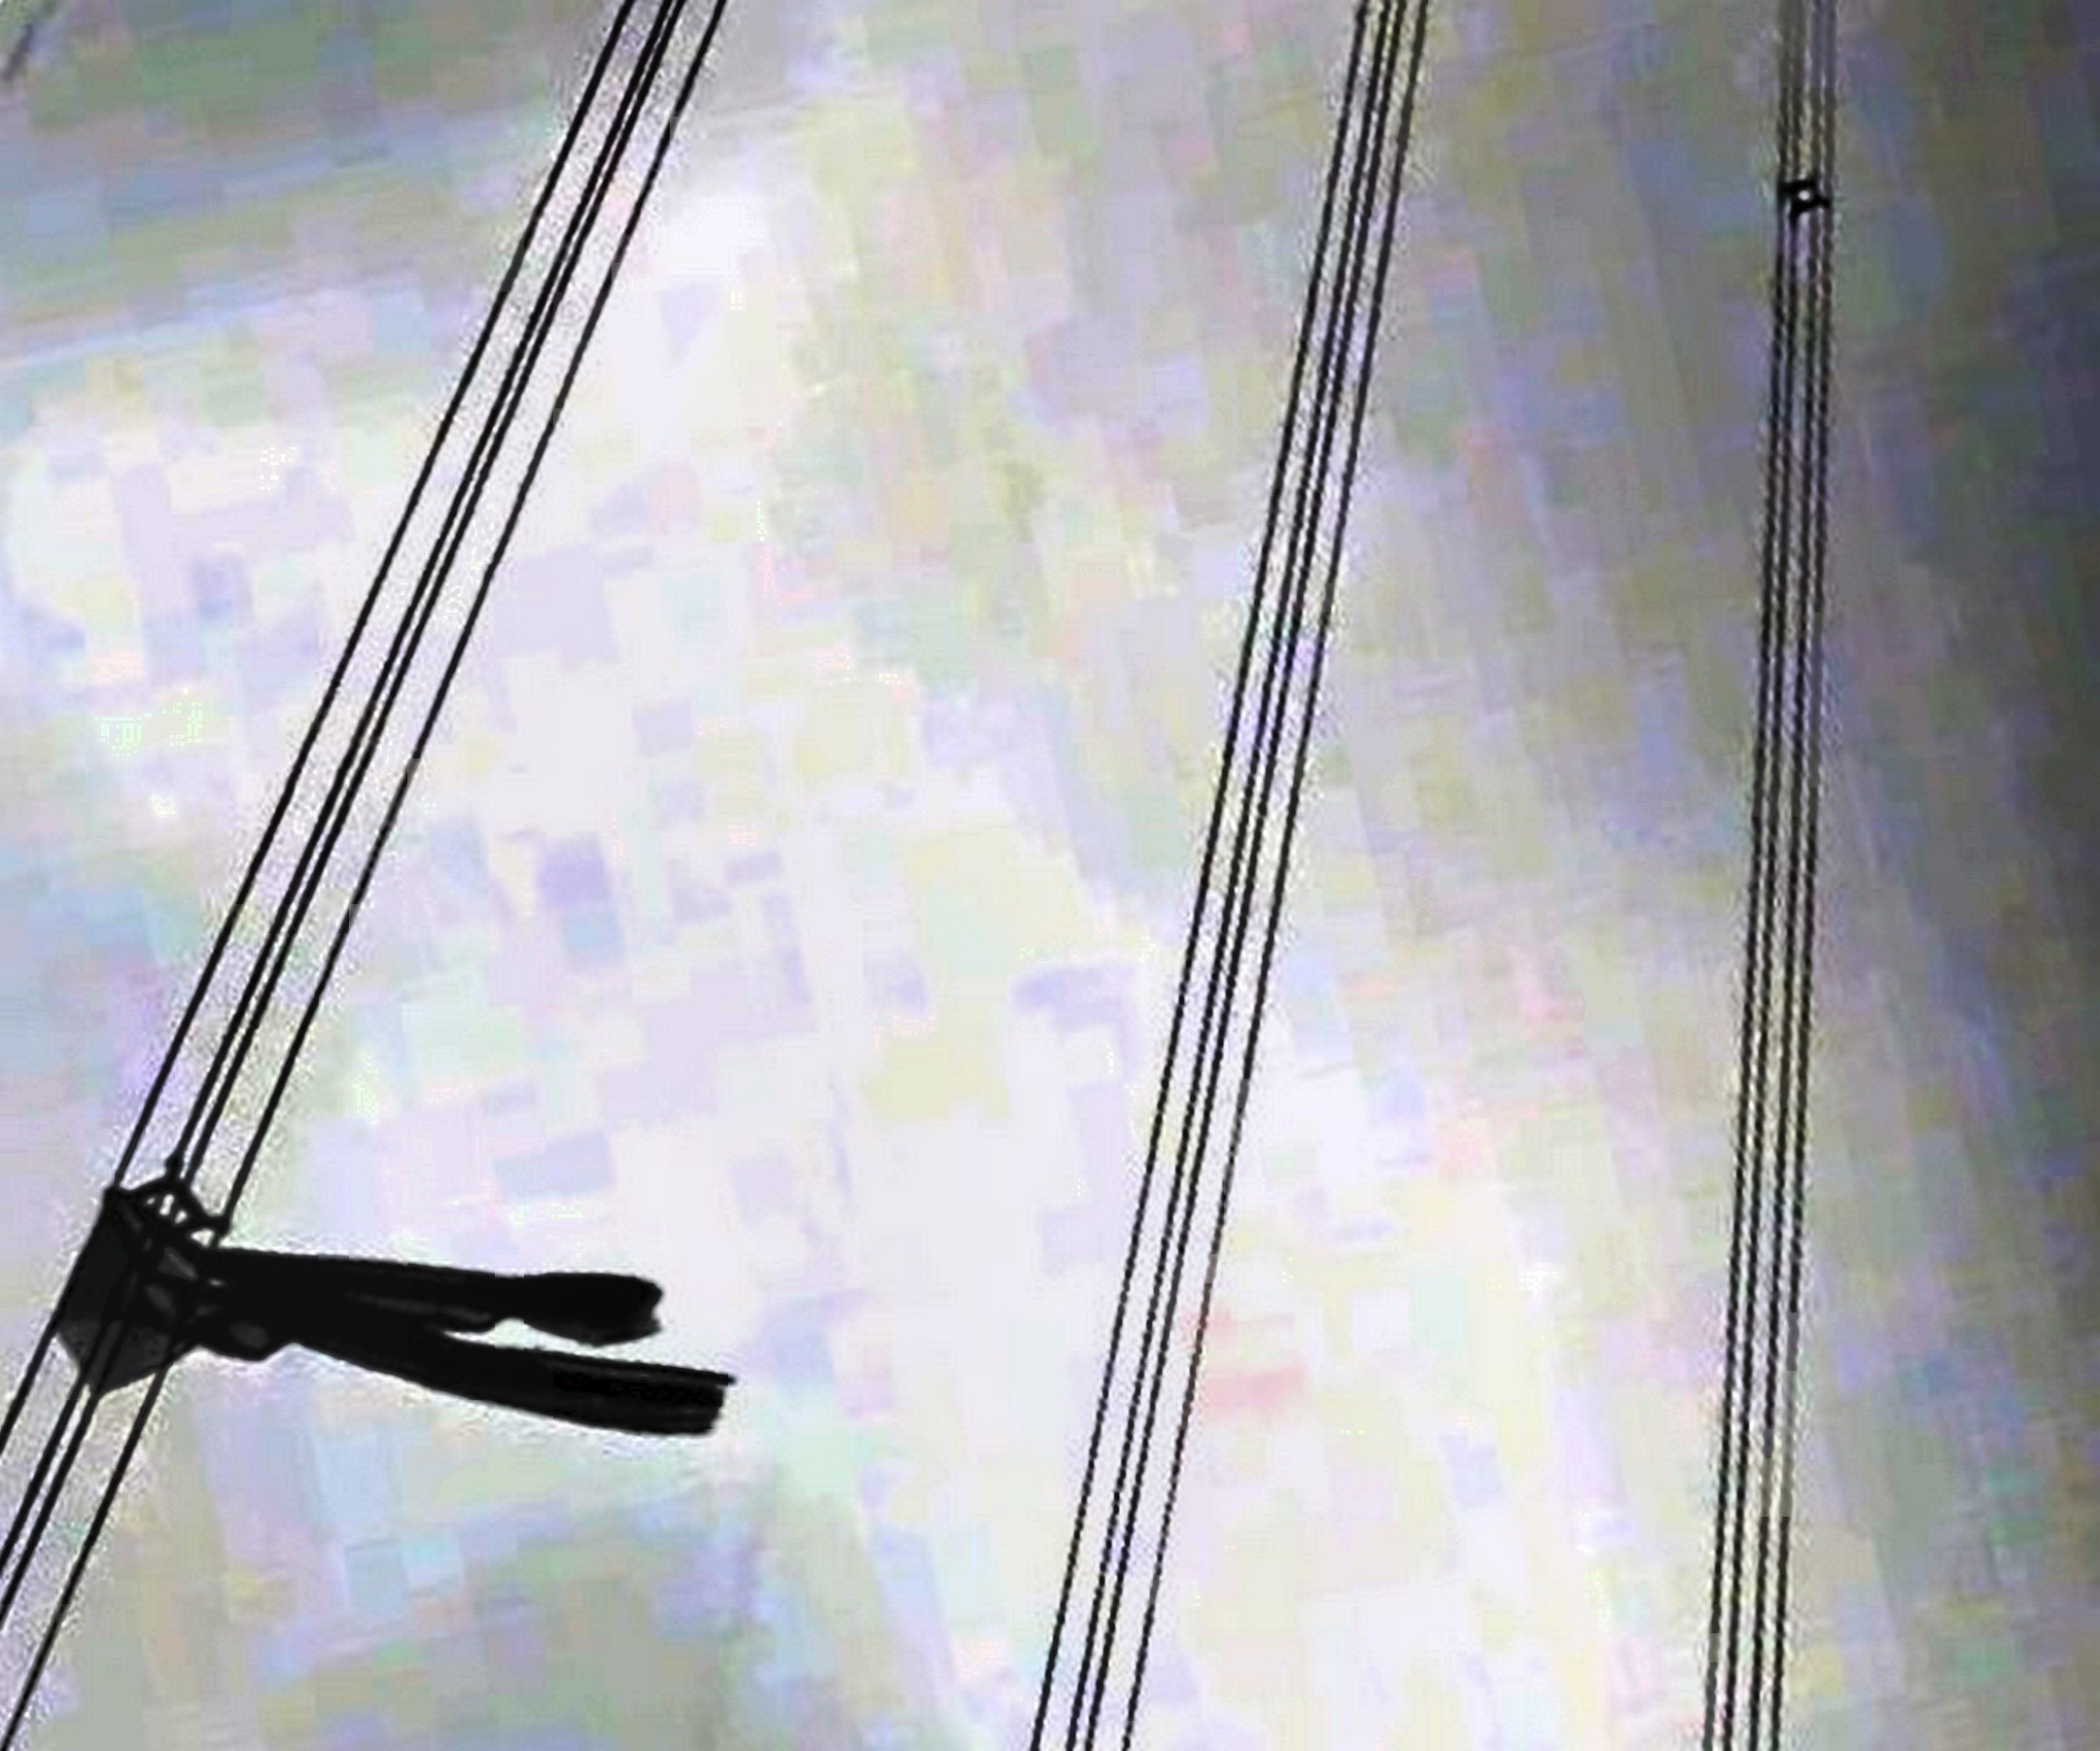wire foreign body: (49, 1168, 767, 1479)
